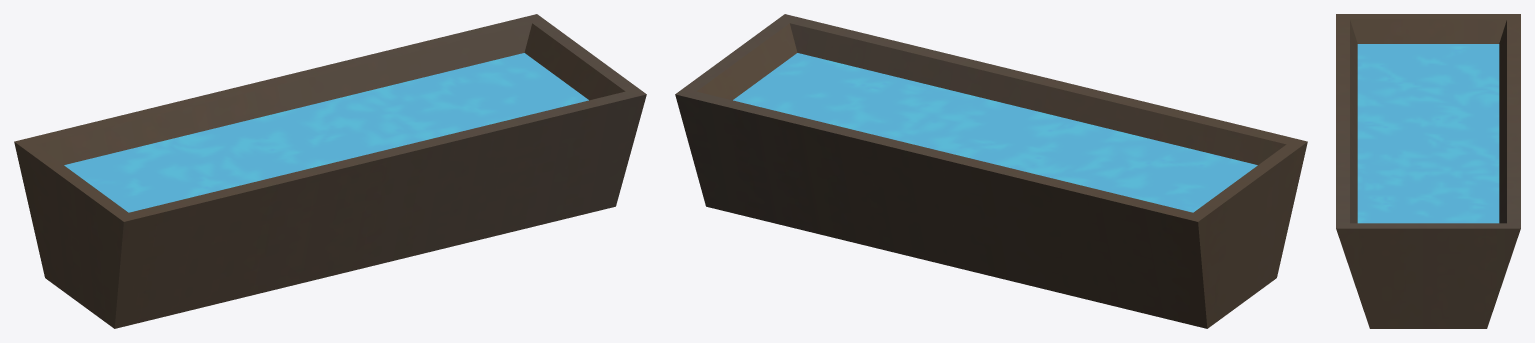
Rendered from SM_Trough.FBX.
3 renders of one model, left to right at view 1: azimuth 30°, elevation 25°; view 2: azimuth 150°, elevation 25°; view 3: azimuth 270°, elevation 25°, orthographic. The views are drawn at different scales.
Visible parts, largest first — view 1: SM_Trough; view 2: SM_Trough; view 3: SM_Trough.
Part boxes in pixels (x1=…): SM_Trough: x1=14, y1=14, x2=646, y2=328; SM_Trough: x1=675, y1=14, x2=1307, y2=328; SM_Trough: x1=1336, y1=14, x2=1520, y2=328.
Size of what is drawn, in the model's own units: 220 by 80 by 50.
